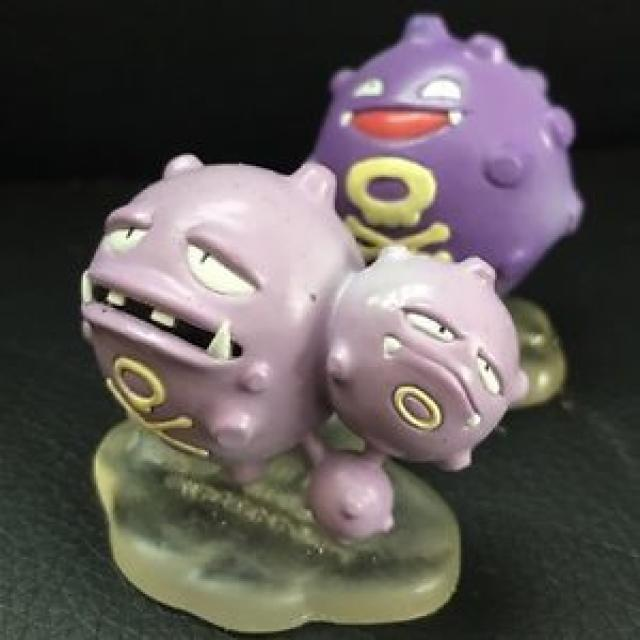Koffing: (331, 23, 579, 253)
Weezing: (79, 159, 530, 539)
